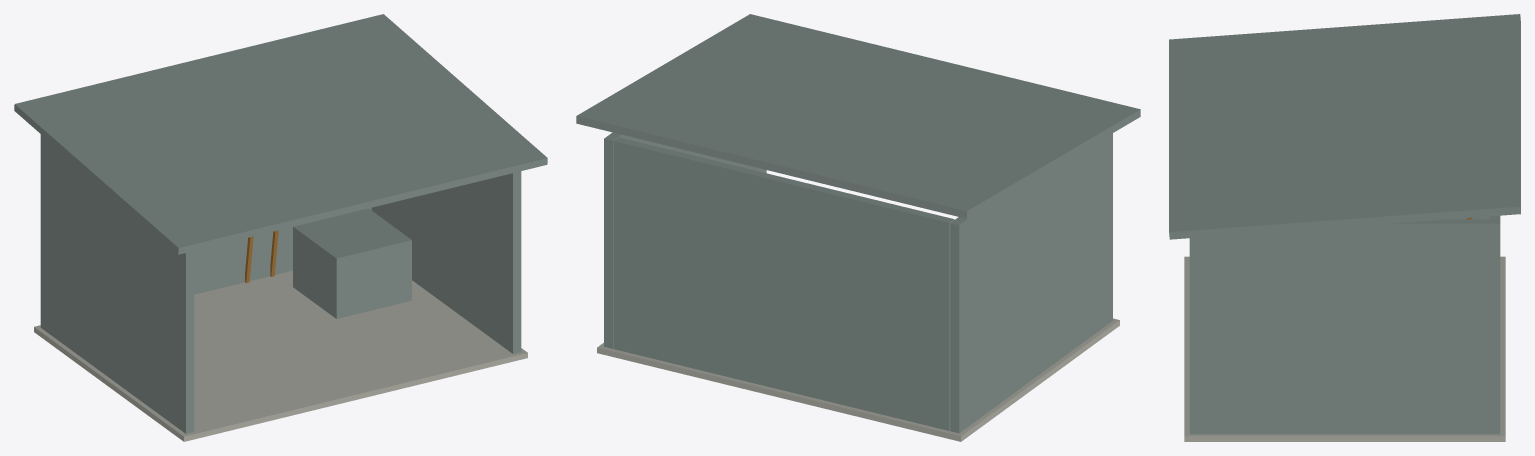
Rendered from SM_CasetaAperos_v0_Chapa_LOD0.fbx.
3 views of the same model, side by side, from view 1: azimuth 30°, elevation 25°; view 2: azimuth 150°, elevation 25°; view 3: azimuth 270°, elevation 25° (orthographic). The views are drawn at different scales.
Visible parts, largest first — view 1: SM_huerta_nules_v20_LOD0; view 2: SM_huerta_nules_v20_LOD0; view 3: SM_huerta_nules_v20_LOD0.
Part boxes in pixels (bbox=[...]): SM_huerta_nules_v20_LOD0: bbox=[14, 14, 547, 441]; SM_huerta_nules_v20_LOD0: bbox=[576, 14, 1140, 441]; SM_huerta_nules_v20_LOD0: bbox=[1169, 14, 1520, 441].
Size of the model in its own units: 4.4 by 2.58 by 3.4.
